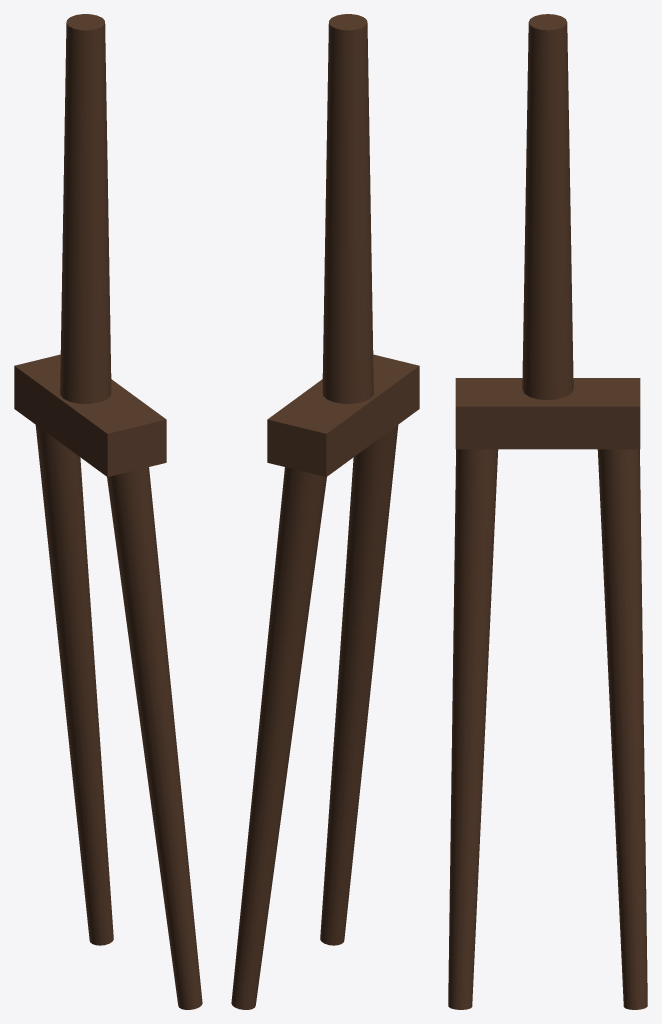
The model's file is fork-demo-mtb-480@1.glb.
3 renders of one model, left to right at view 1: azimuth 30°, elevation 25°; view 2: azimuth 150°, elevation 25°; view 3: azimuth 270°, elevation 25°, orthographic.
Parts seen in each view (by area): view 1: fork_demo_mtb_480_blades, fork_demo_mtb_480_steerer_tube, fork_demo_mtb_480_crown; view 2: fork_demo_mtb_480_blades, fork_demo_mtb_480_steerer_tube, fork_demo_mtb_480_crown; view 3: fork_demo_mtb_480_blades, fork_demo_mtb_480_steerer_tube, fork_demo_mtb_480_crown.
Boxes of the visible parts, left/top/right/bottom form: fork_demo_mtb_480_blades: left=35, top=425, right=202, bottom=1009; fork_demo_mtb_480_steerer_tube: left=60, top=14, right=111, bottom=403; fork_demo_mtb_480_crown: left=14, top=354, right=166, bottom=476; fork_demo_mtb_480_blades: left=231, top=425, right=398, bottom=1009; fork_demo_mtb_480_steerer_tube: left=322, top=14, right=373, bottom=403; fork_demo_mtb_480_crown: left=267, top=354, right=419, bottom=476; fork_demo_mtb_480_blades: left=448, top=449, right=647, bottom=1009; fork_demo_mtb_480_steerer_tube: left=522, top=14, right=573, bottom=400; fork_demo_mtb_480_crown: left=455, top=378, right=640, bottom=449.
Size of the model in its own units: 0.0809 by 0.781 by 0.1478.
